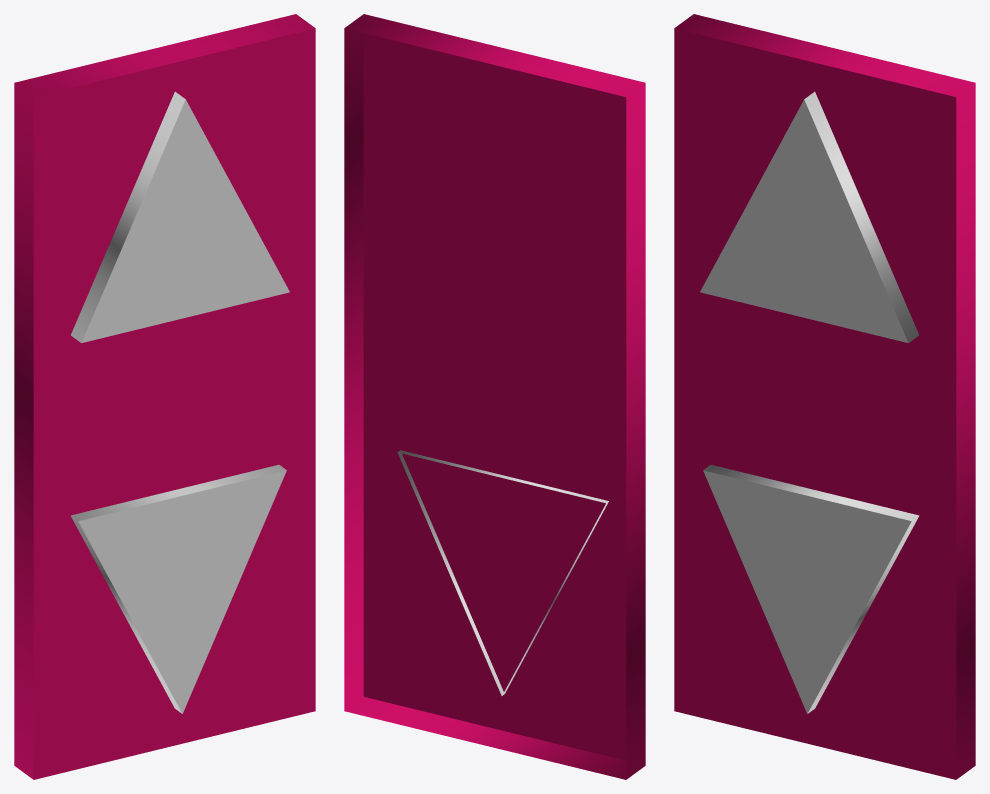
Rendered from SM_ElevatorButtons.fbx.
3 renders of one model, left to right at view 1: azimuth 30°, elevation 25°; view 2: azimuth 150°, elevation 25°; view 3: azimuth 330°, elevation 25°, orthographic.
Visible parts, largest first — view 1: B_Up.003, B_Up.001, B_Up.002; view 2: B_Up.003, B_Up.002; view 3: B_Up.003, B_Up.001, B_Up.002.
Part boxes in pixels (x1,y1,x2,y2): B_Up.003: [14, 14, 315, 779]; B_Up.001: [71, 91, 289, 342]; B_Up.002: [70, 464, 286, 713]; B_Up.003: [344, 14, 645, 779]; B_Up.002: [397, 450, 608, 695]; B_Up.003: [674, 14, 975, 779]; B_Up.001: [700, 91, 918, 342]; B_Up.002: [703, 464, 919, 713].
Size of the model in its own units: 0.00513 by 0.0119 by 0.000965.
